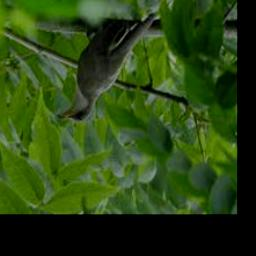Cuckoo: (57, 13, 156, 122)
